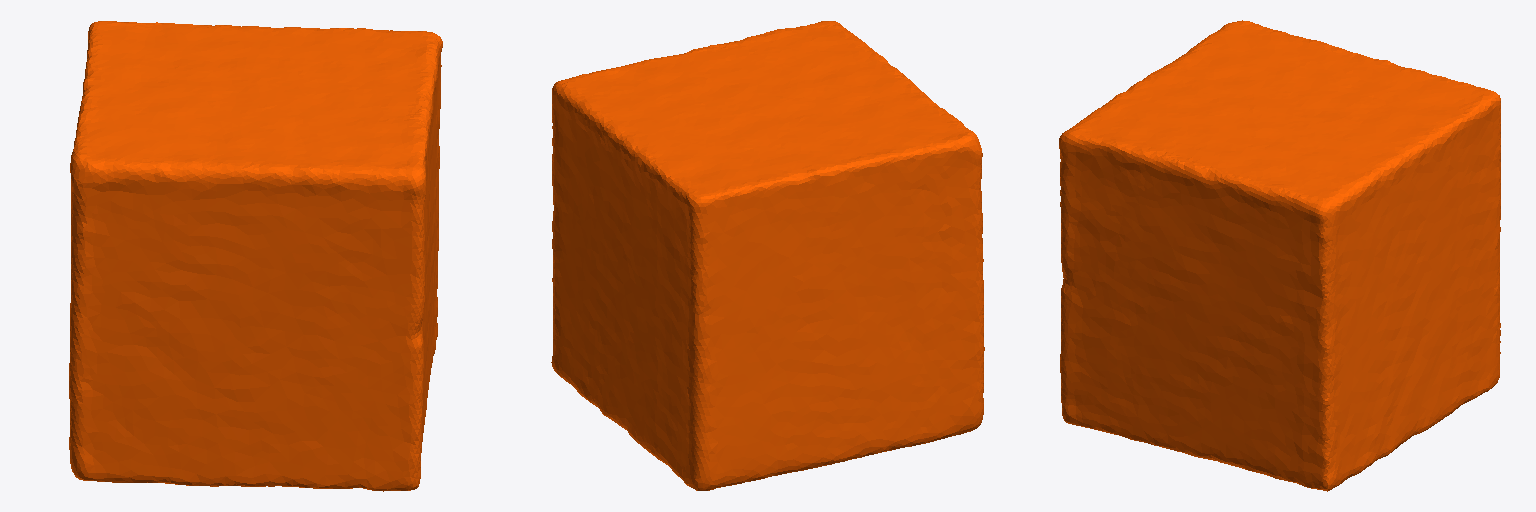
robot.urdf — 070-b_colored_wood_blocks:
<?xml version="1.0" ?>
<robot name="070-b_colored_wood_blocks">
   <material name="obj_color">
      <color rgba="1.0 0.423529411765 0.0392156862745 1.0"/>
   </material>
   <link name="top">
      <inertial>
         <origin rpy="3.438652546032472e-06 3.459321641105351e-06 3.481575792181686e-06" xyz="-0.0002586239208058521 -3.372989496999644e-05 -0.001538976199175531"/>
         <mass value="0.03216024339203764"/>
         <inertia ixx="3.468994672060567e-06" ixy="-2.435558391136312e-09" ixz="-1.476113880074795e-08" iyy="3.456790085627906e-06" iyz="1.311415849657226e-08" izz="3.453765221631037e-06"/>
      </inertial>
      <visual>
         <origin rpy="0 0 0" xyz="0 0 0"/>
         <geometry>
            <mesh filename="top_watertight_tiny.stl" scale="1 1 1"/>
         </geometry>
         <material name="obj_color"/>
      </visual>
      <collision>
         <origin rpy="0 0 0" xyz="0 0 0"/>
         <geometry>
            <mesh filename="top_watertight_tiny.obj" scale="1 1 1"/>
         </geometry>
      </collision>
   </link>
   <link name="bottom">
      <inertial>
         <origin rpy="1.633333333199431e-08 1.633333333199431e-08 1.633333333362855e-08" xyz="0.3464080000000008 0.3464080000000008 0.3464080000000008"/>
         <mass value="0.0009800000000000017"/>
         <inertia ixx="1.633333333253906e-08" ixy="5.447480642029219e-19" ixz="5.447480642029219e-19" iyy="1.633333333253906e-08" iyz="5.447480642029219e-19" izz="1.633333333253906e-08"/>
      </inertial>
      <visual>
         <origin rpy="0 0 0" xyz="0 0 0"/>
         <geometry>
            <mesh filename="bottom_watertight_tiny.stl" scale="1 1 1"/>
         </geometry>
         <material name="obj_color"/>
      </visual>
   </link>
   <joint name="rotation" type="revolute">
      <origin xyz="0 0 0"/>
      <axis xyz="0 0 -1"/>
      <parent link="bottom"/>
      <child link="top"/>
      <dynamics damping="1.0" friction="1.0"/>
      <limit effort="0.1" velocity="0.1" lower="0" upper="0.001"/>
   </joint>
</robot>

--- Render facts (derived) ---
Views: 3 orthographic renders of the robot side by side, from view 1: azimuth 30°, elevation 25°; view 2: azimuth 150°, elevation 25°; view 3: azimuth 270°, elevation 25°.
Robot: 070-b_colored_wood_blocks — 2 links, 1 joints (1 revolute); root link bottom; default pose: all joints at 0.
Links seen in each view (by area): view 1: top; view 2: top; view 3: top.
Link boxes in pixels (box(x1,y1,x2,y2)): top: box(69, 21, 442, 491); top: box(551, 21, 984, 490); top: box(1059, 20, 1500, 491).
Bounding box of the posed robot: 0.0349 × 0.0349 × 0.0258 m (x, y, z).
1 mesh visuals loaded from 2 distinct referenced files (1 binary STL); not drawn: 1 (reference not matched to a file when rendering).
